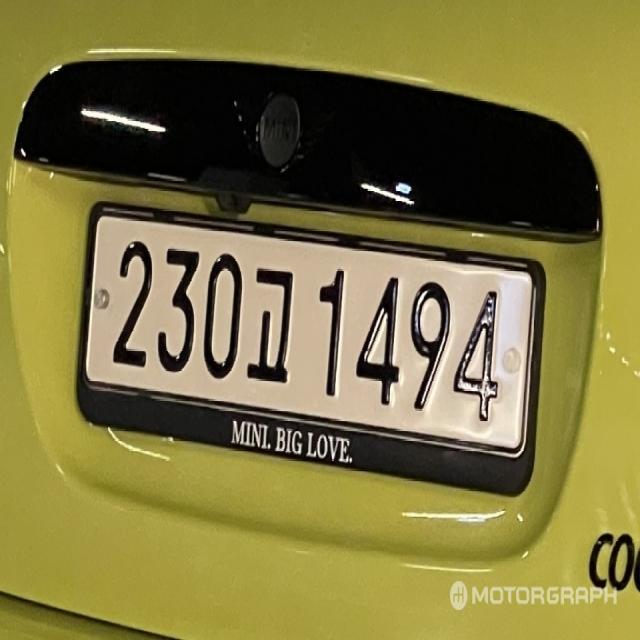car: (49, 184, 556, 523)
